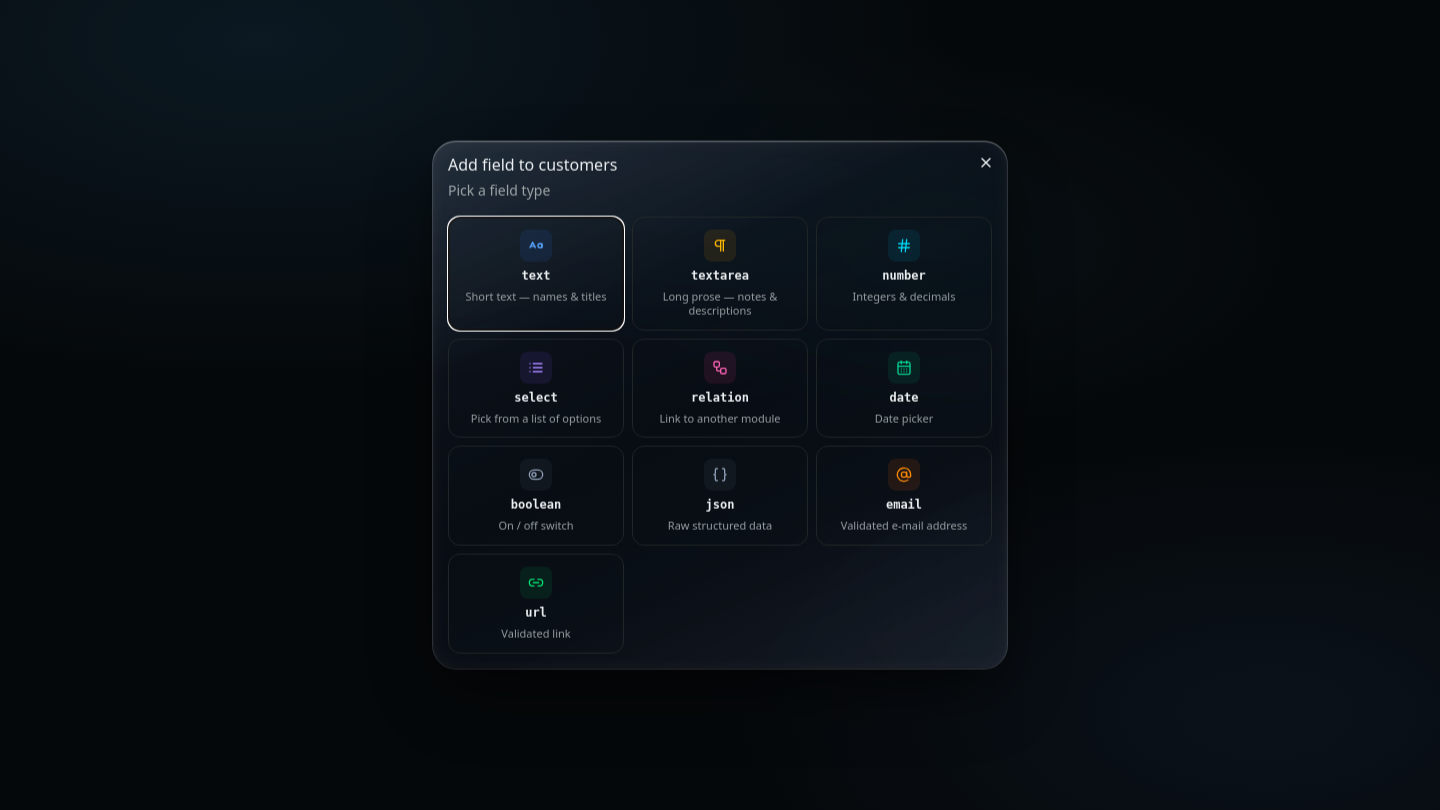
Test: FieldModal add flow › blocks saving a duplicate name with an inline error
The width and height of the screenshot is (1440, 810).
Click the button "text Short text — names & titles" at point(536, 273), box [448,217,624,330]
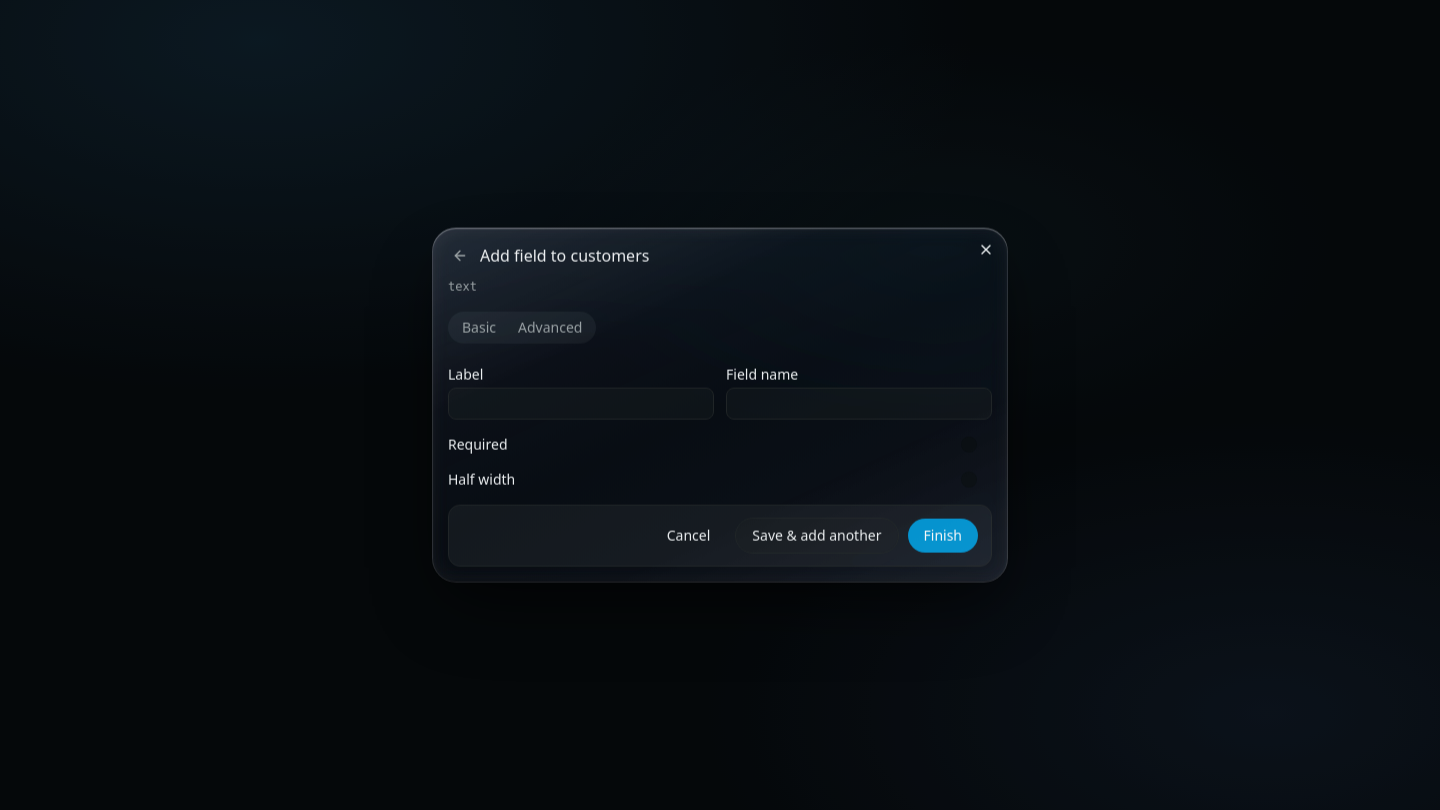
Type "Name" into the field labelled "Label" at point(581, 404), box [448,388,714,420]
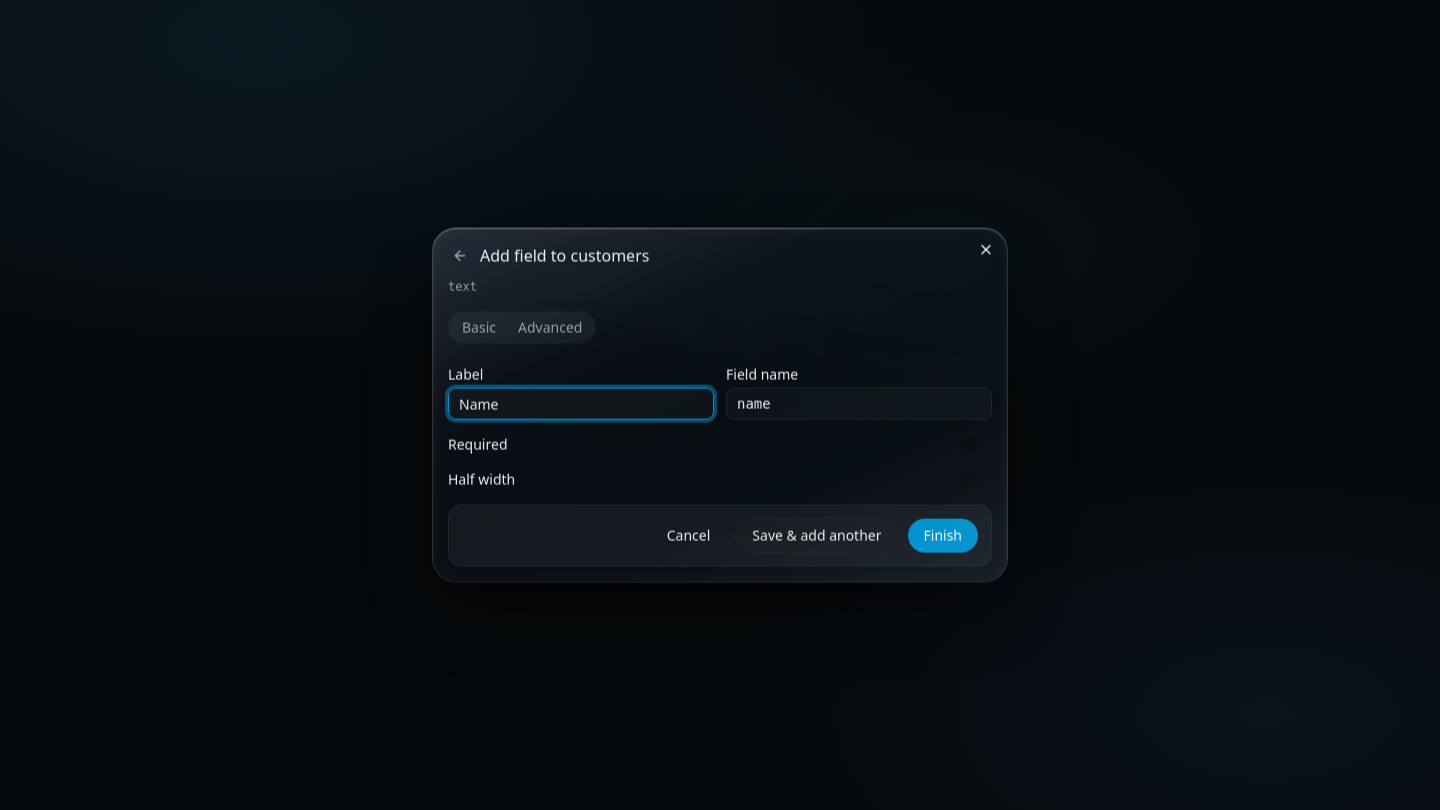
Click the button "Finish" at point(943, 535), box [906,517,979,553]
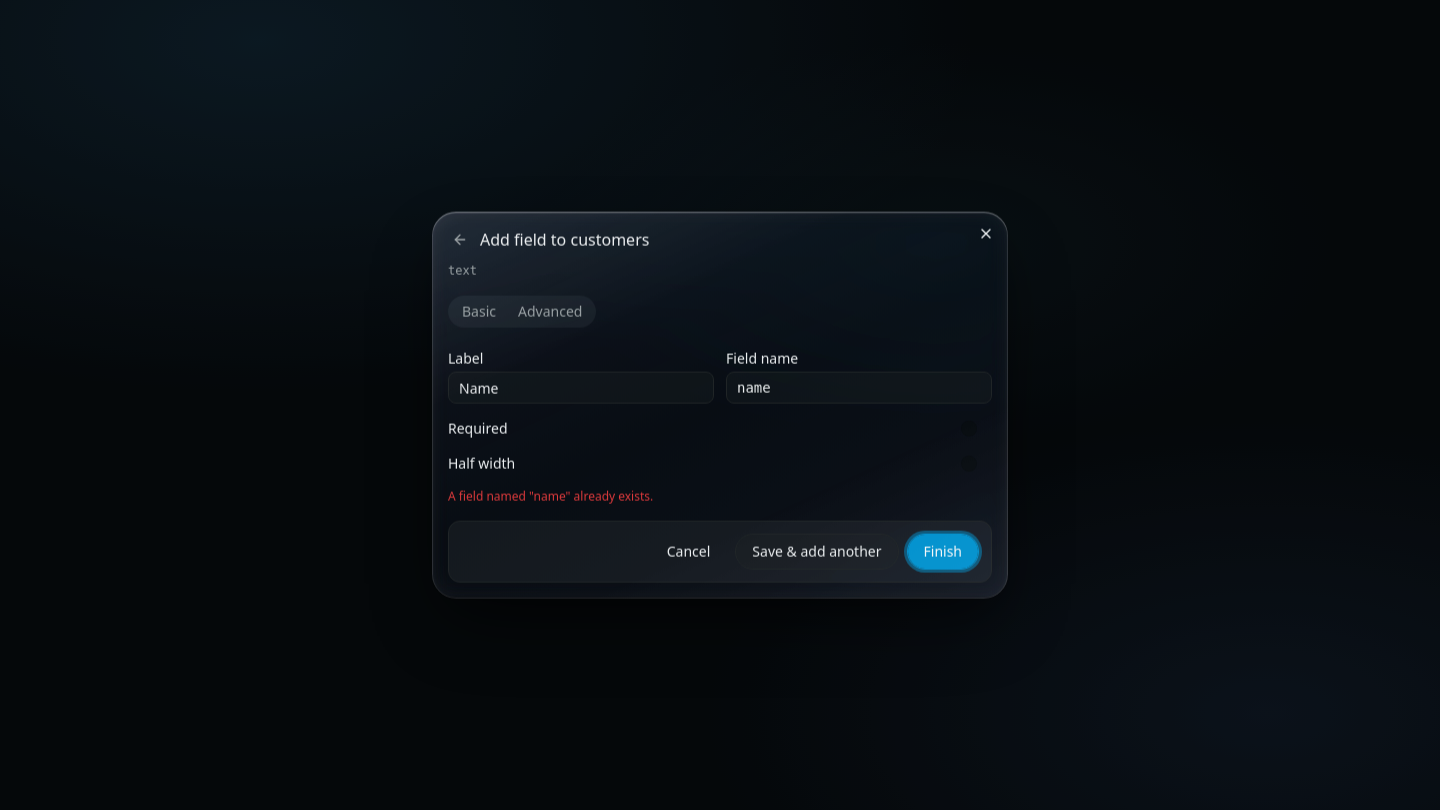
Expected: the message shows "already exists", [448,487,653,504]
